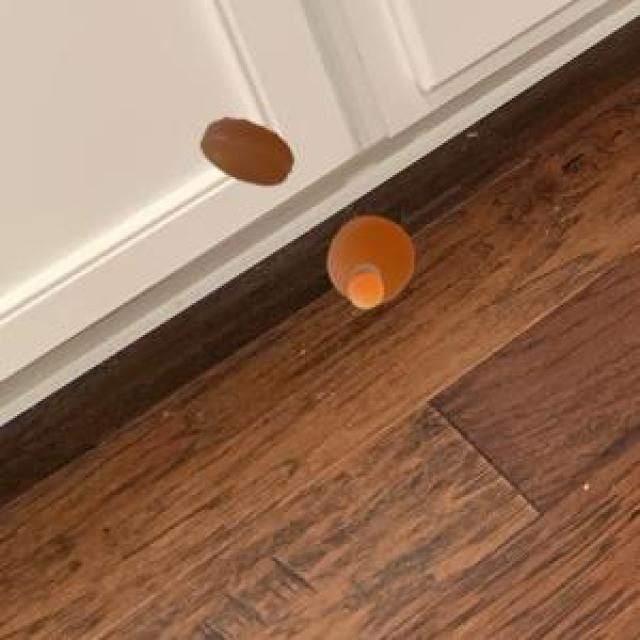Bactidol: (192, 89, 310, 200), (316, 205, 420, 325)
